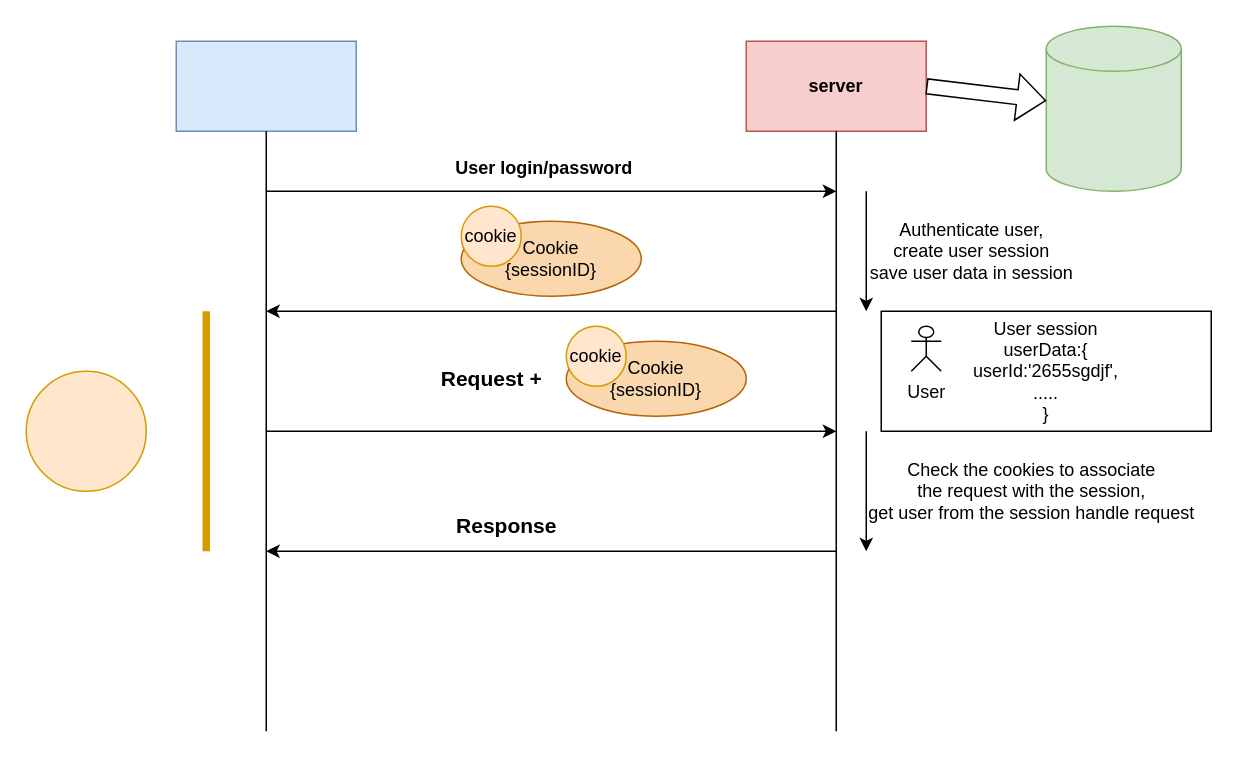
Some shapes in this 1238 by 759 pixel diagram are drawn without their labels. The centre of each missing label's shape, as x and y in pixels:
"client" goes at (x=265, y=85).
"cookie:{ sessionID }" goes at (x=85, y=430).
"Database" goes at (x=1113, y=108).
